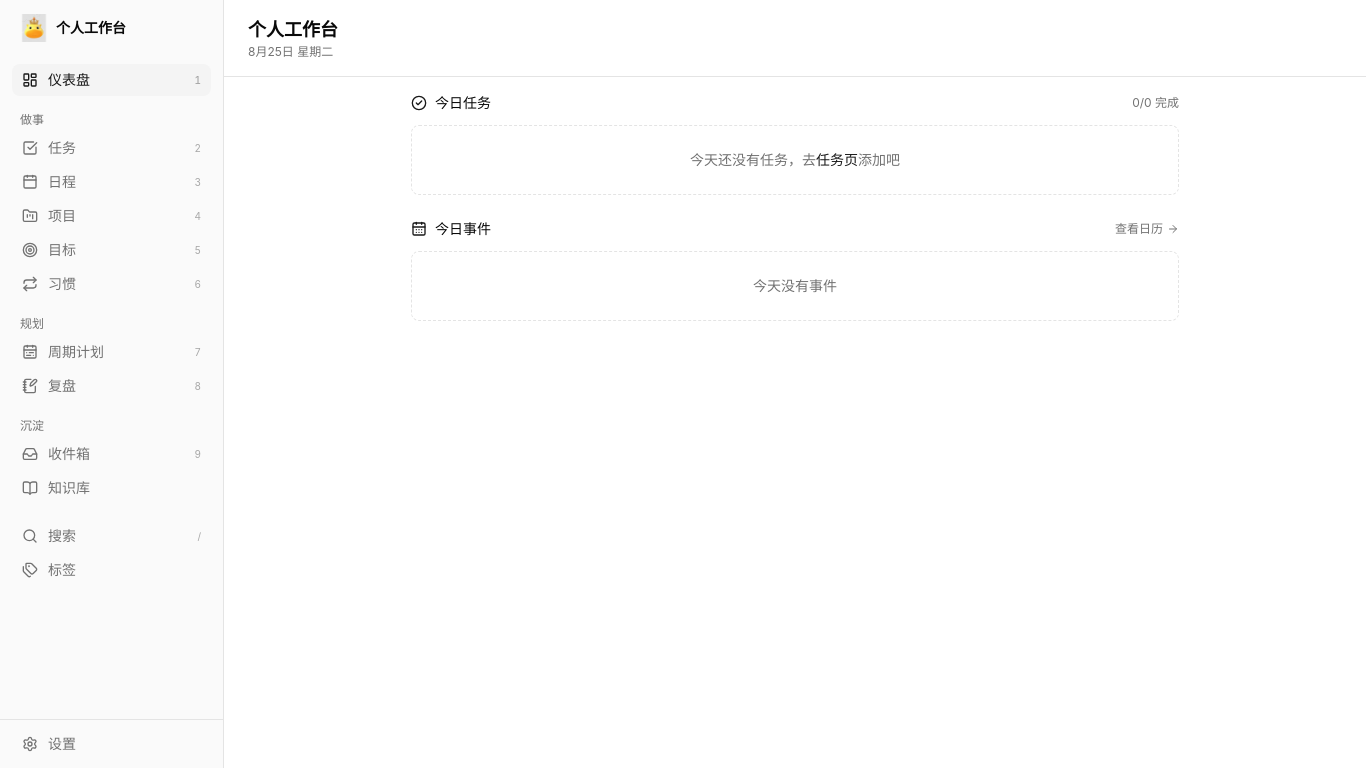
App 路由切换 › 初始渲染仪表盘，点击菜单切换到任务页
The width and height of the screenshot is (1366, 768).
Check: the heading "个人工作台" is shown, box 248,19 -> 338,40
用 href 精确定位侧栏链接（避免匹配到页面内的"任务页"链接）
Click the link to "#/tasks". click: click(30, 148)
box: 22,139 -> 201,156
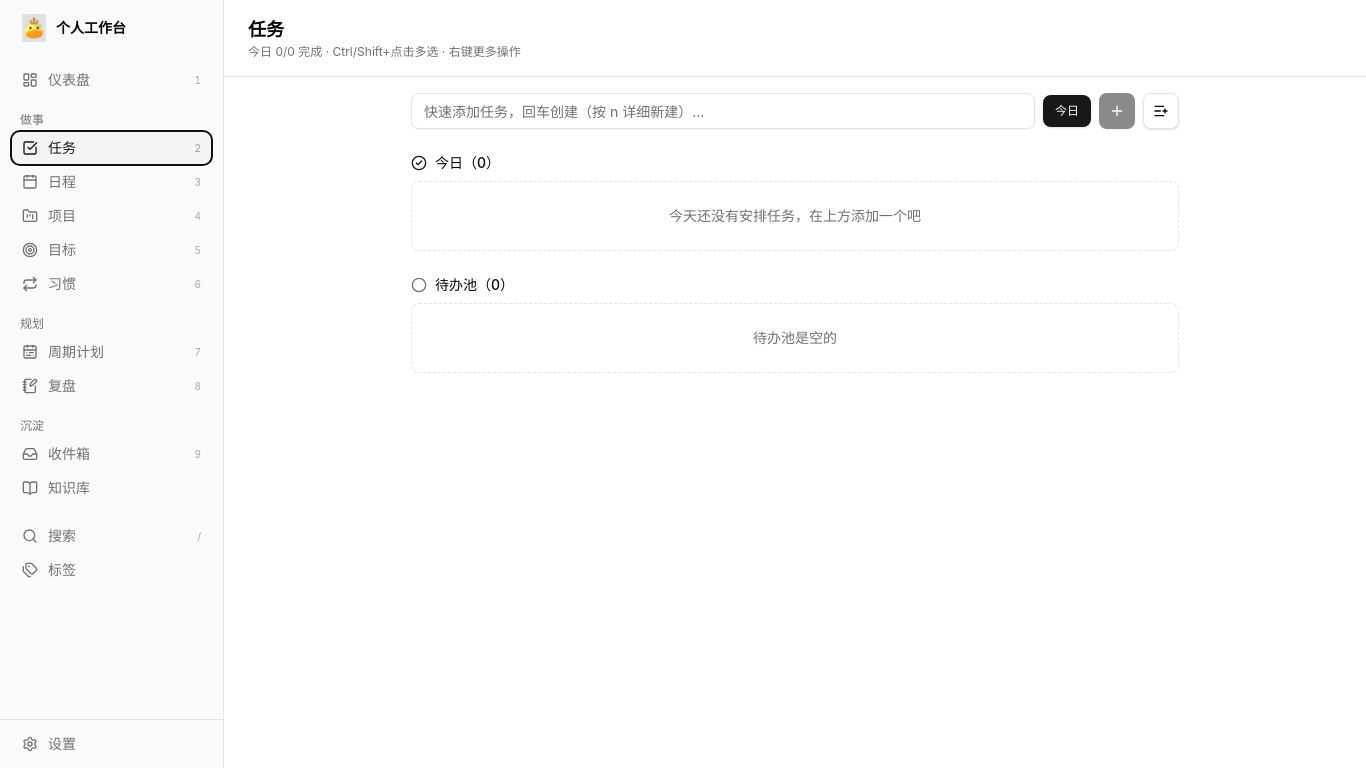
Check: the heading "任务" is shown, box 248,19 -> 284,40
